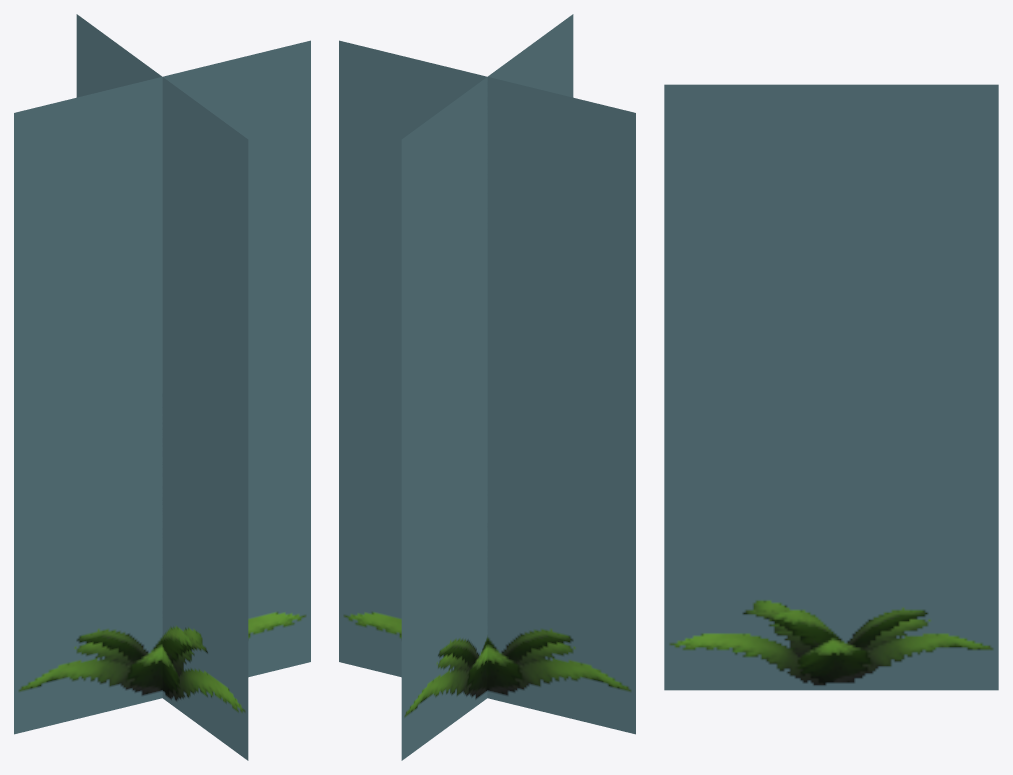
Rendered from fern_1_3.glb.
3 views of the same model, side by side, from view 1: azimuth 30°, elevation 25°; view 2: azimuth 150°, elevation 25°; view 3: azimuth 270°, elevation 25° (orthographic). The views are drawn at different scales.
Parts seen in each view (by area): view 1: fern_1; view 2: fern_1; view 3: fern_1.
Part boxes in pixels (box(x1,y1,x2,y2)): fern_1: box(14, 14, 310, 760); fern_1: box(339, 14, 635, 760); fern_1: box(664, 84, 998, 690).
Bounding box in the file's own units: 2.83 × 5.65 × 2.83.
Materials: 1 (1 with a texture image).
